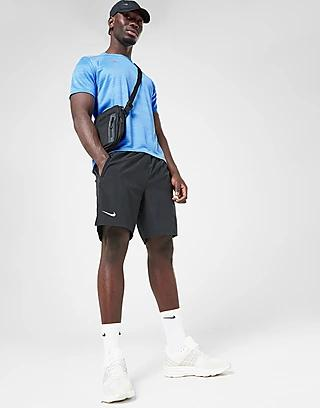Shorts: (91, 150, 179, 243)
short sleeve shirt: (68, 51, 168, 163)
